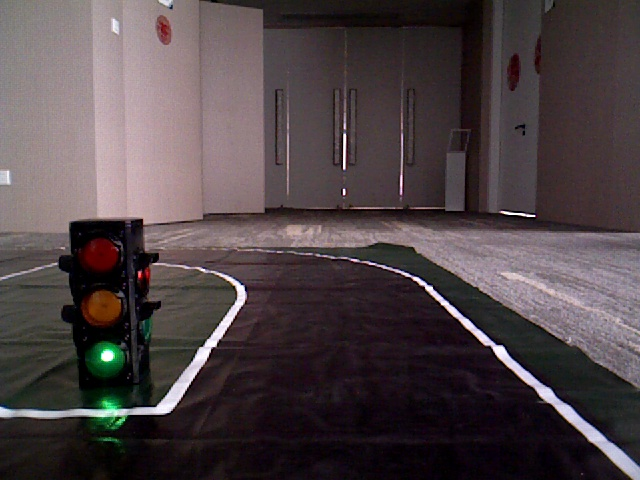green: (70, 226, 137, 380)
